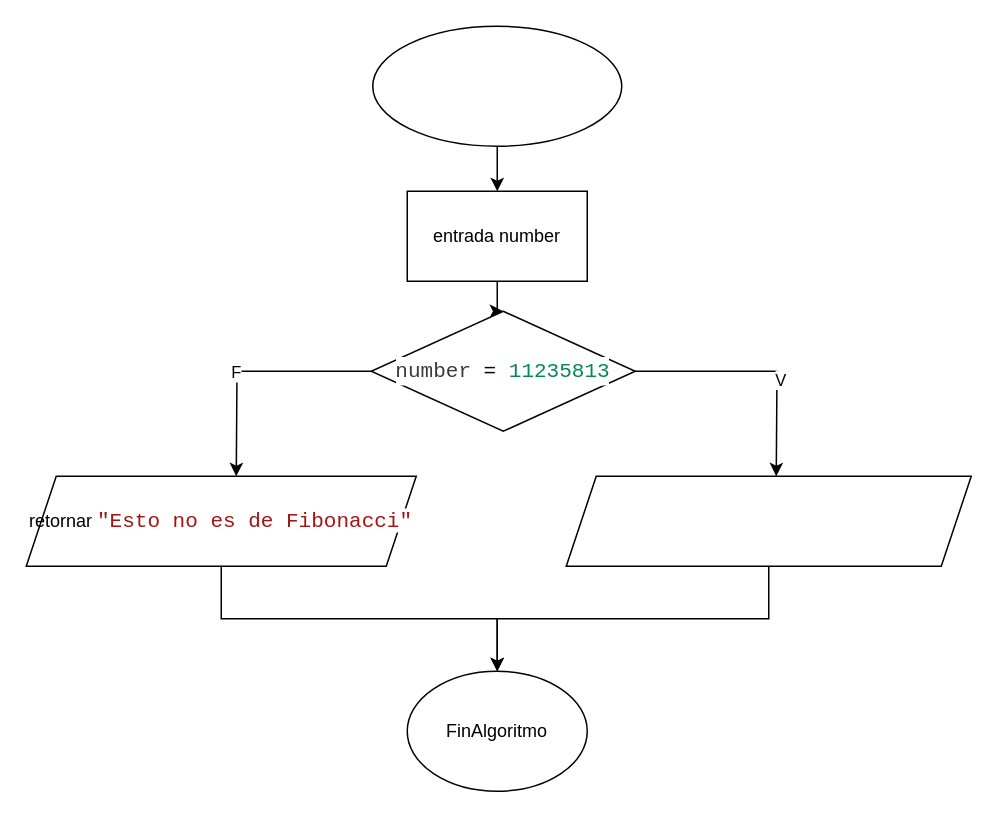
This 998x818 diagram has some shape labels left out. Here are the shapes that lost their labels. From the top down, the centre of each, then its label:
(x=496, y=85): Algoritmo Practico 1 ejer 11
(x=768, y=520): retornar "Se encontro a Fibonacci"
